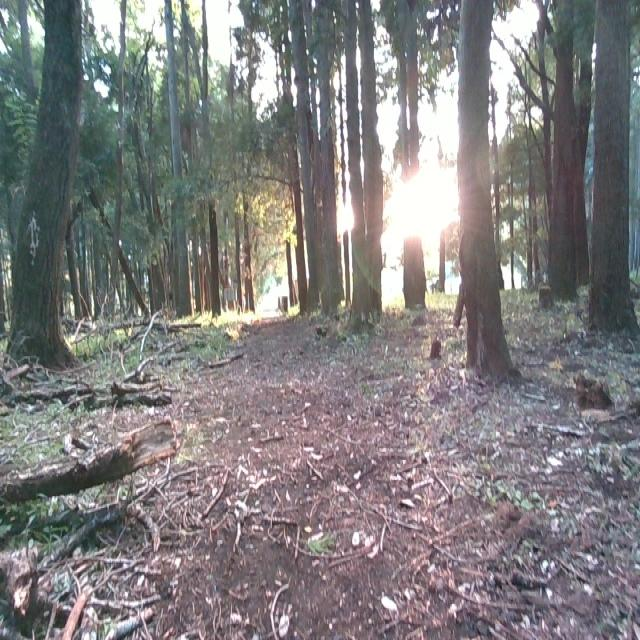tree: (6, 0, 97, 371), (459, 0, 527, 386), (0, 416, 185, 505), (589, 0, 637, 332), (343, 0, 388, 338), (296, 0, 339, 324), (547, 0, 591, 309), (394, 0, 432, 315), (165, 0, 193, 316), (3, 380, 174, 410)
